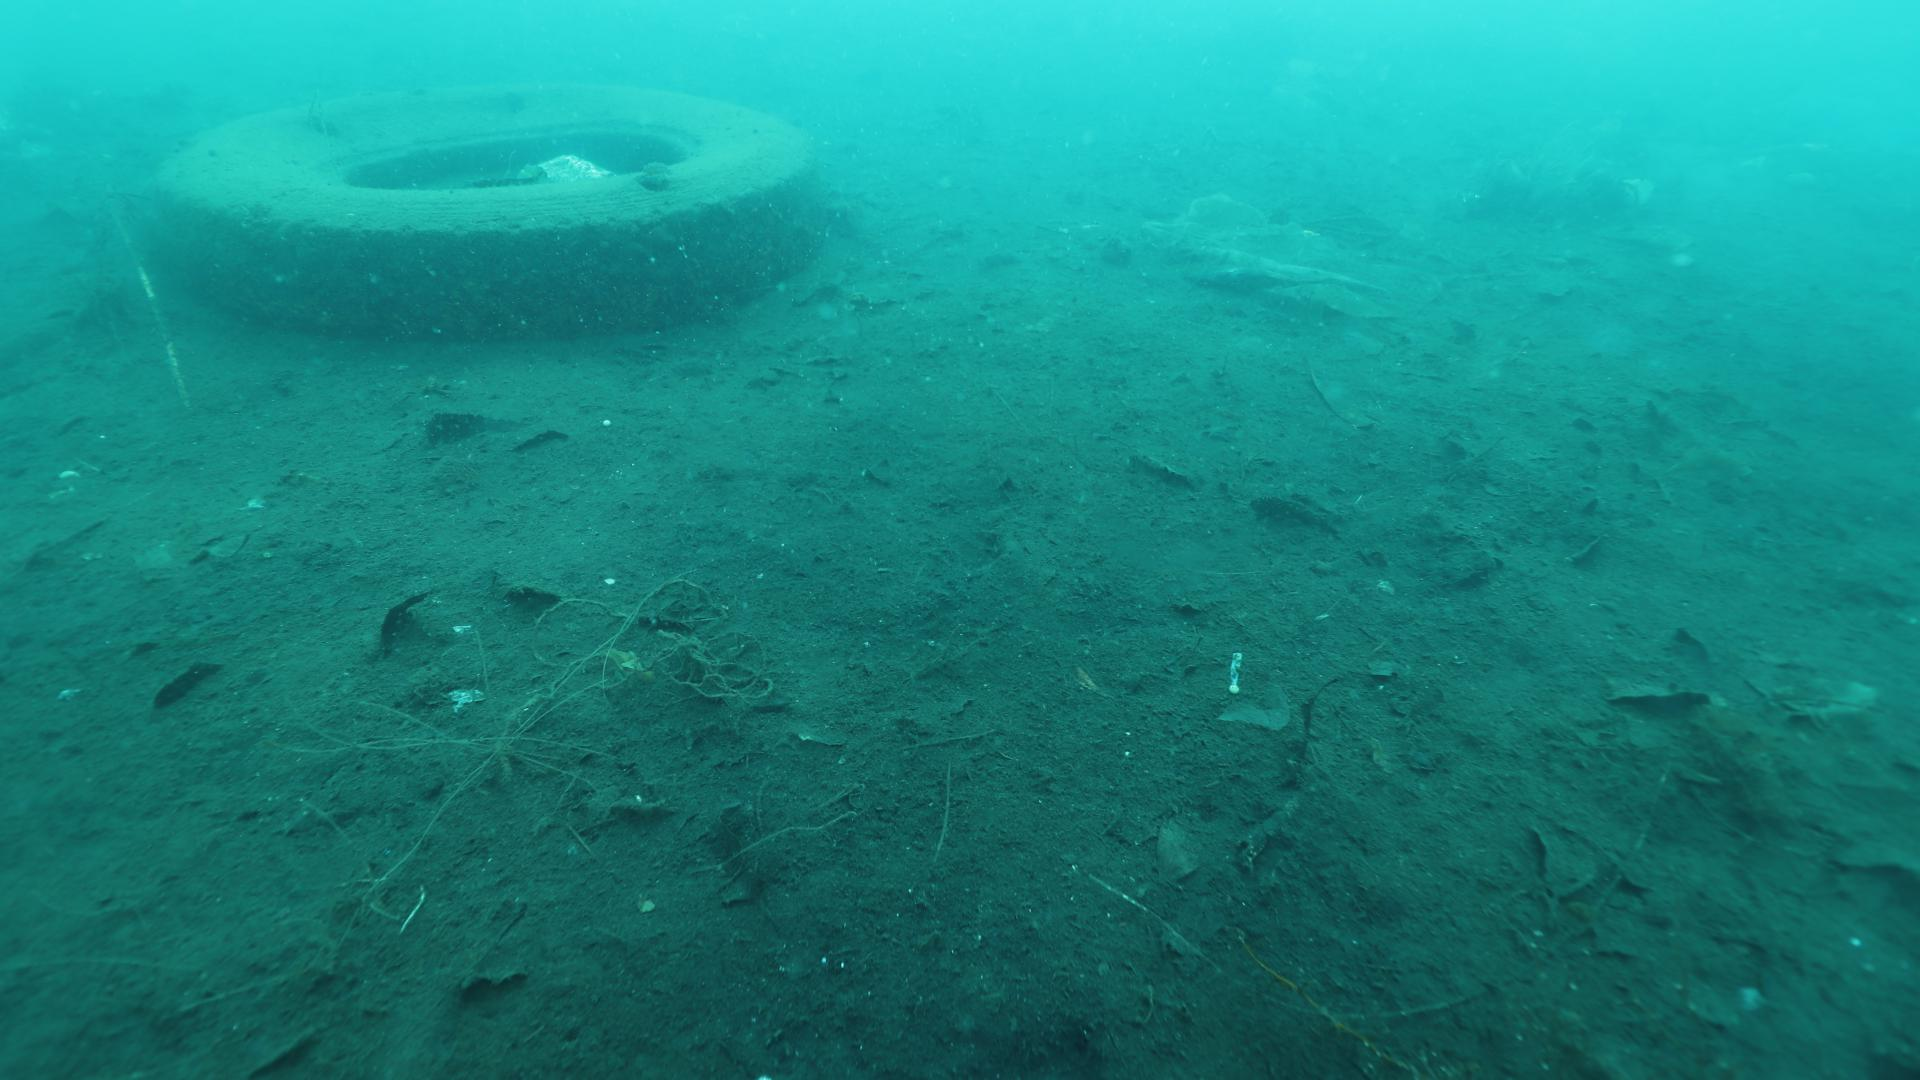tire: (140, 76, 815, 351)
